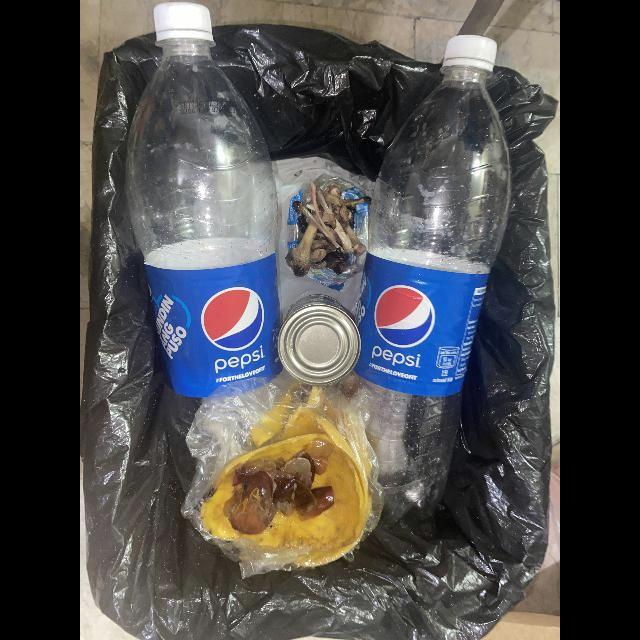aluminum: (277, 294, 361, 386)
left_over_food: (285, 180, 366, 277)
plastic_bag: (181, 373, 383, 579)
plastic_bottle: (342, 34, 512, 529), (125, 1, 282, 400)
